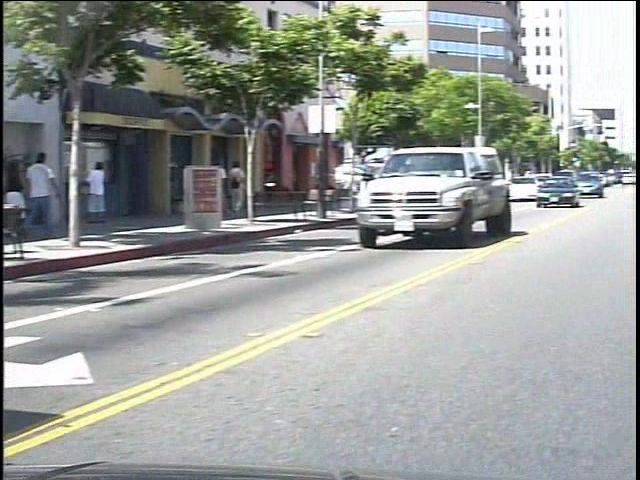person: (37, 148, 73, 238), (13, 149, 44, 241), (95, 152, 123, 227), (240, 160, 262, 222)
